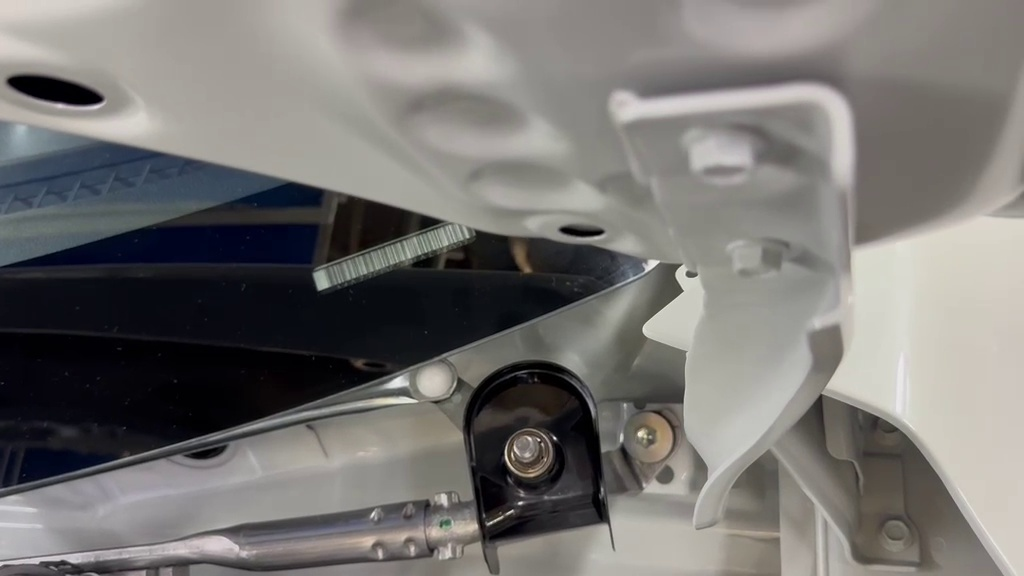barcode: (443, 356, 658, 576)
hinge: (292, 202, 499, 309)
